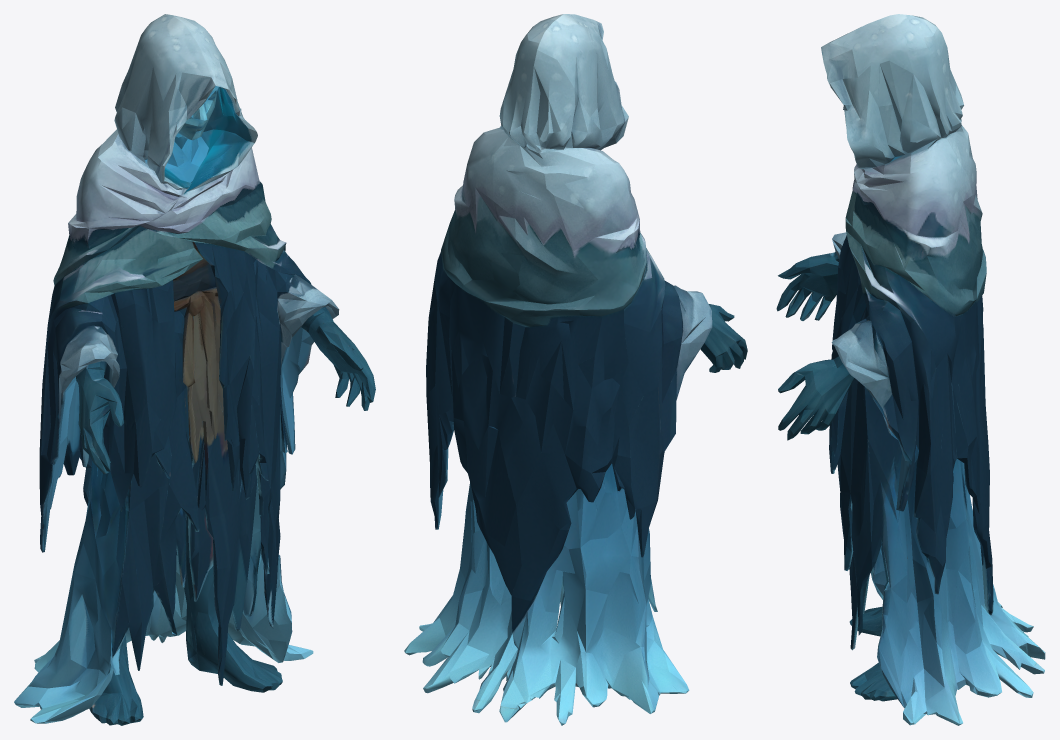
File: wraith.glb
3 renders of one model, left to right at view 1: azimuth 30°, elevation 25°; view 2: azimuth 150°, elevation 25°; view 3: azimuth 270°, elevation 25°, orthographic. The views are drawn at different scales.
Size of the model in its own units: 0.8203 by 1.9 by 0.7079.
Materials: 1 (1 with a texture image).
